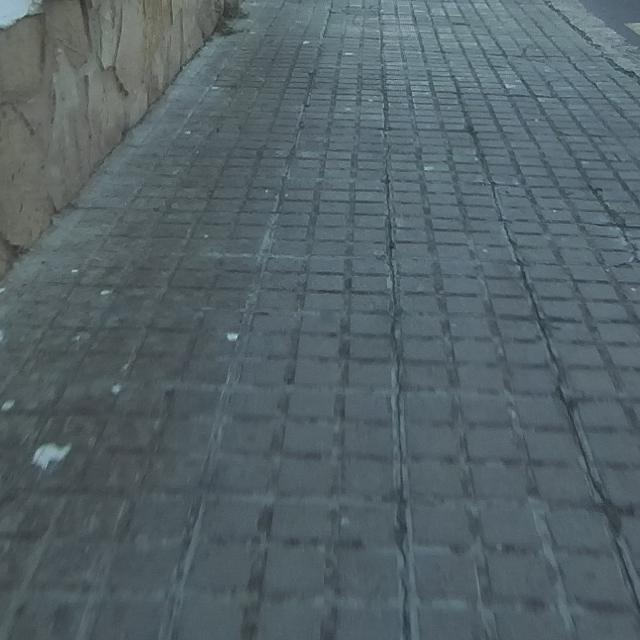calcada_quebrada: (594, 191, 640, 271), (503, 39, 553, 69)
